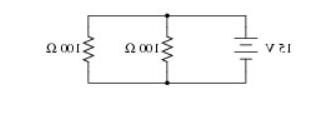resistor: (80, 30, 99, 65), (159, 30, 176, 65)
